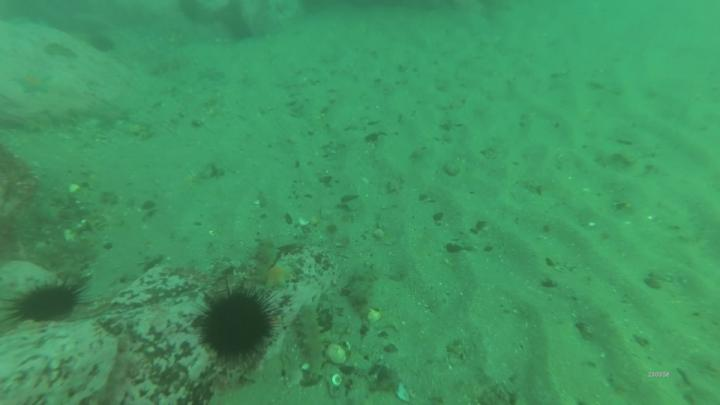echinus: (203, 294, 273, 357), (16, 285, 76, 321)
holothurian: (298, 308, 328, 383), (254, 236, 278, 283)
starfish: (16, 70, 53, 95), (264, 266, 292, 287)
